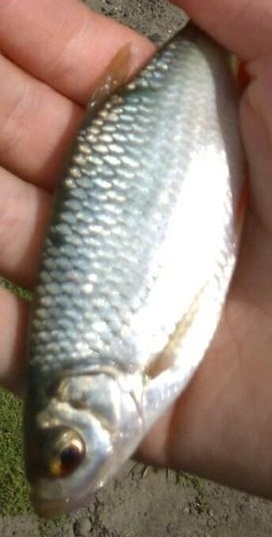Rutilus rutilus: (20, 20, 252, 517)
